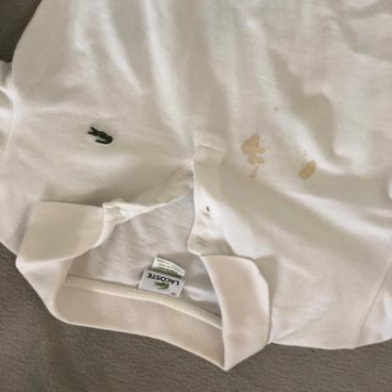coffee: (241, 134, 263, 166), (301, 161, 317, 179)
